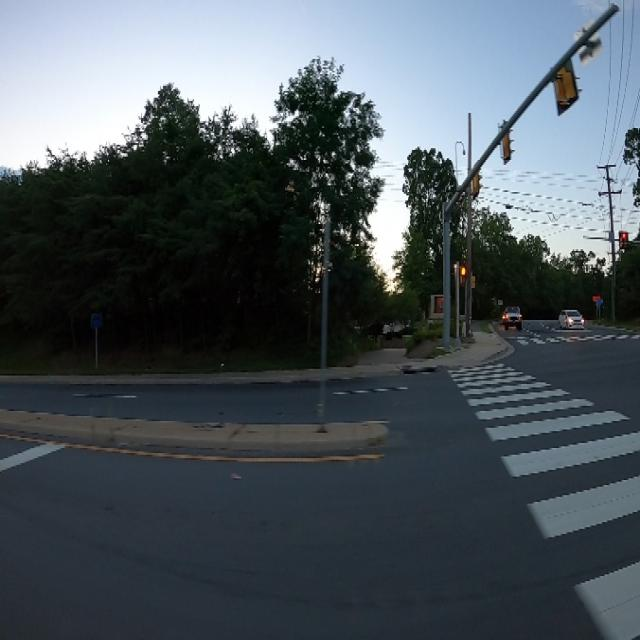cars: (560, 305, 588, 331), (506, 312, 524, 330), (502, 307, 514, 325)
